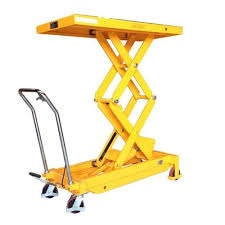Scissor Lift: (17, 12, 183, 215)
